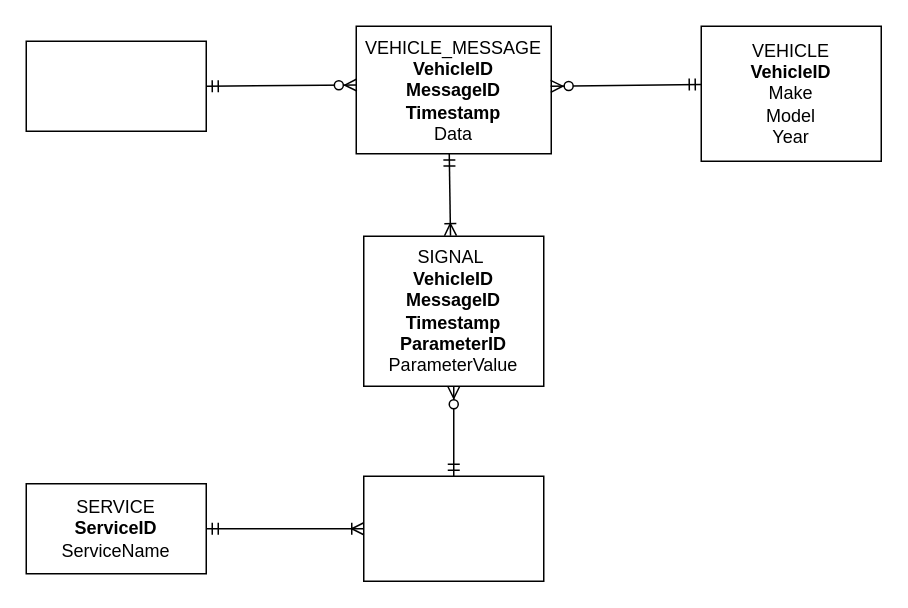
Some shapes in this 908 by 608 pixel diagram are drawn without their labels. Each missing label, with the centre of its shape:
MESSAGE MessageID MessageName: the point at 115,85
PARAMETER ParameterID ServiceID ParameterName: the point at 453,528
